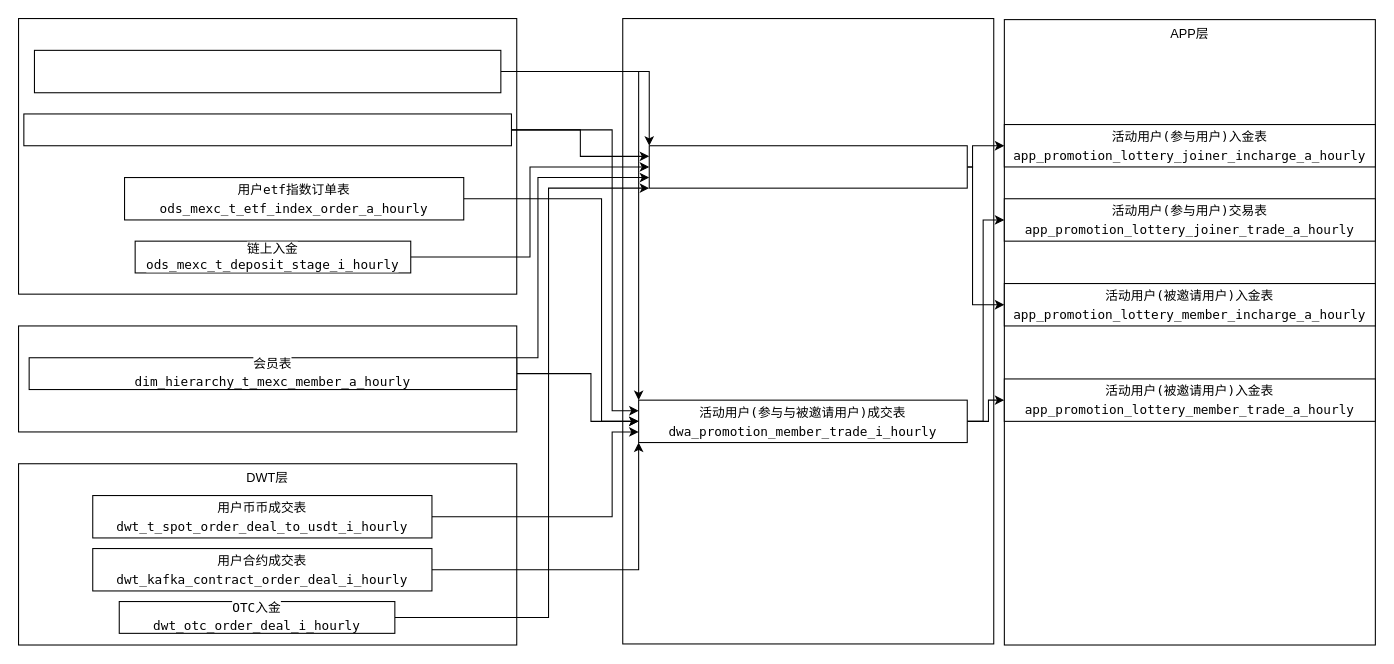
This 1394x664 diagram has some shape labels left out. The box of each missing label's shape, as (x1, y1, x2, y2) in pixels:
DIM层: (17, 325, 517, 432)
DWA层: (622, 17, 994, 644)
ODS层: (17, 17, 517, 294)
活动信息表 dw_ods.ods_mxc_promotion_v_bg_t_promotion_position_a_hourly: (33, 49, 501, 93)
活动用户(参与与被邀请用户)入金表 dwa_promotion_member_incharge_i_hourly: (648, 145, 967, 188)
活动用户报名表 ods_mxc_promotion_v_bg_t_promotion_position_registration_a_hourly: (23, 113, 511, 146)
